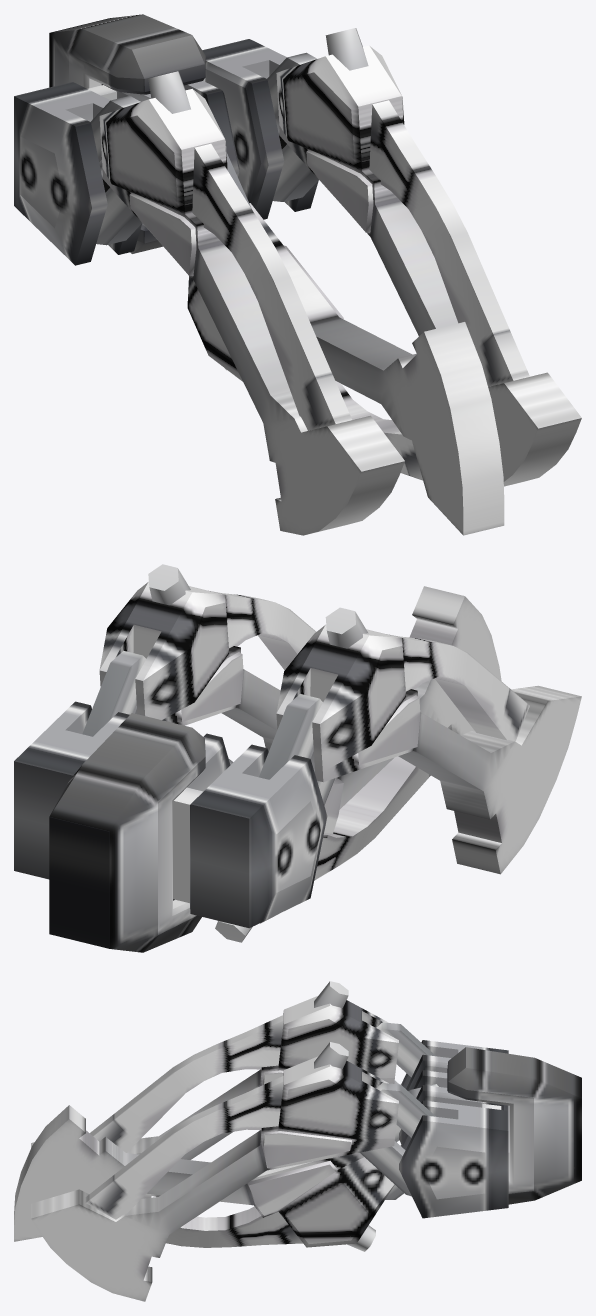
3 views of the same model, one above another, from view 1: azimuth 30°, elevation 25°; view 2: azimuth 150°, elevation 25°; view 3: azimuth 270°, elevation 25° (orthographic). The views are drawn at different scales.
Visible parts, largest first — view 1: body; view 2: body; view 3: body.
Part boxes in pixels (x1,y1,x2,y2): body: (14, 14, 581, 535); body: (14, 564, 581, 952); body: (14, 981, 581, 1301).
Size of the model in its own units: 4.15 by 5.43 by 11.18.
Materials: 1 (1 with a texture image).
